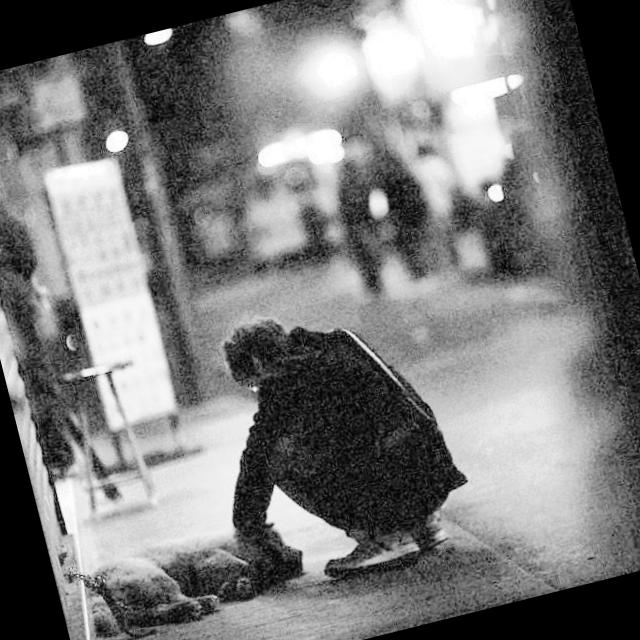Dog: (49, 497, 307, 640)
